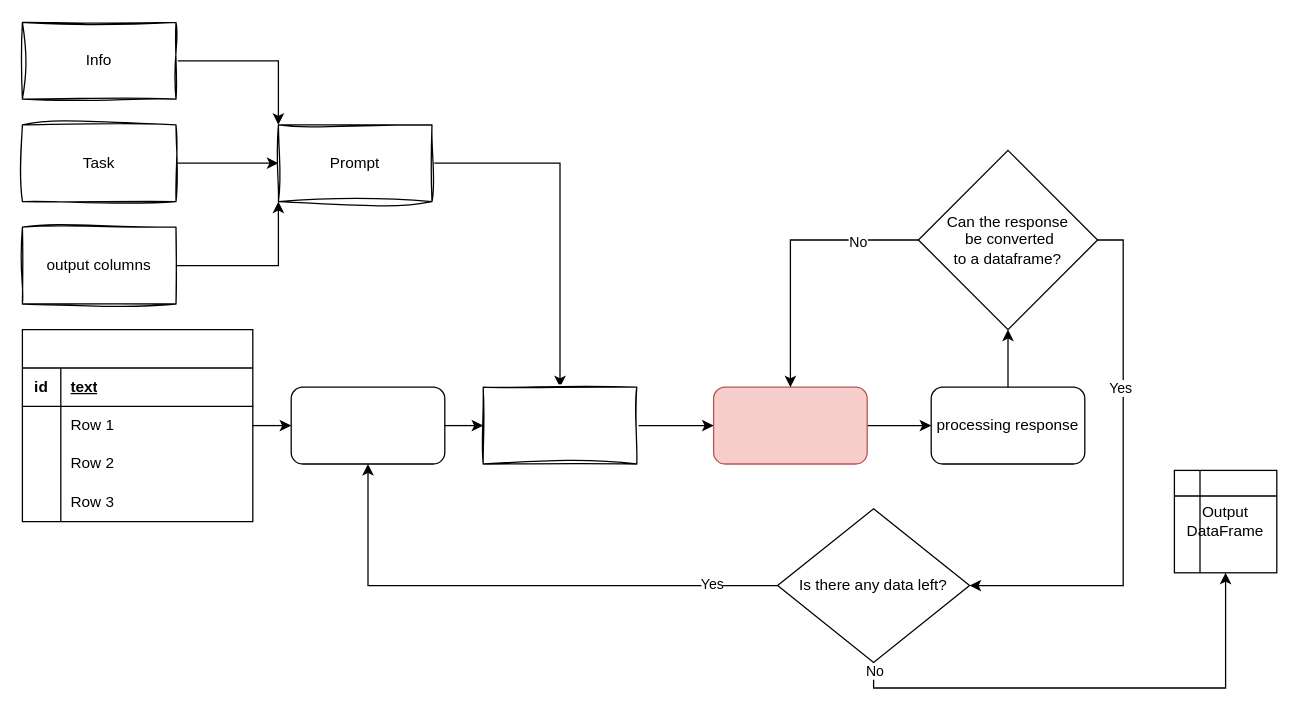
Image size: 1299x721. Some labels were removed from this diagram. The shapes that lost their labels are listed below. From the top down, each one's box as (x1, y1, x2, y2) in pixels, then its label:
(21, 328, 253, 522): Table
(290, 386, 445, 464): Batching data
(482, 386, 637, 464): final prompt
(712, 386, 867, 464): LLM function
